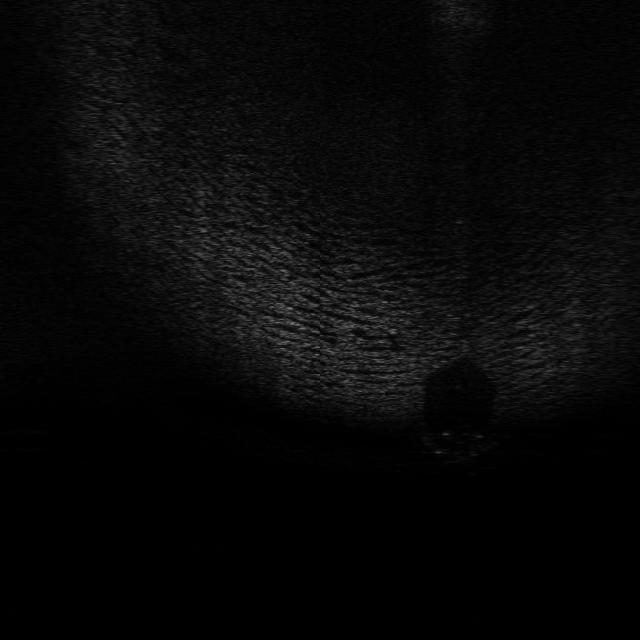cube: (420, 422, 494, 465)
